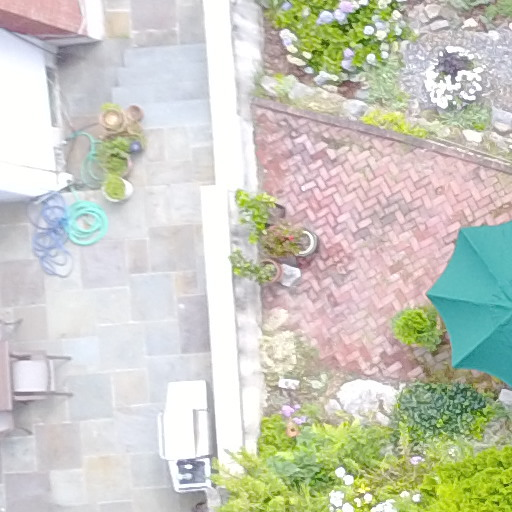flower pot: (93, 177, 151, 206), (288, 222, 324, 261), (91, 100, 129, 136), (102, 148, 135, 186), (252, 257, 286, 285), (127, 95, 147, 124)
umbrella: (419, 192, 512, 397)
